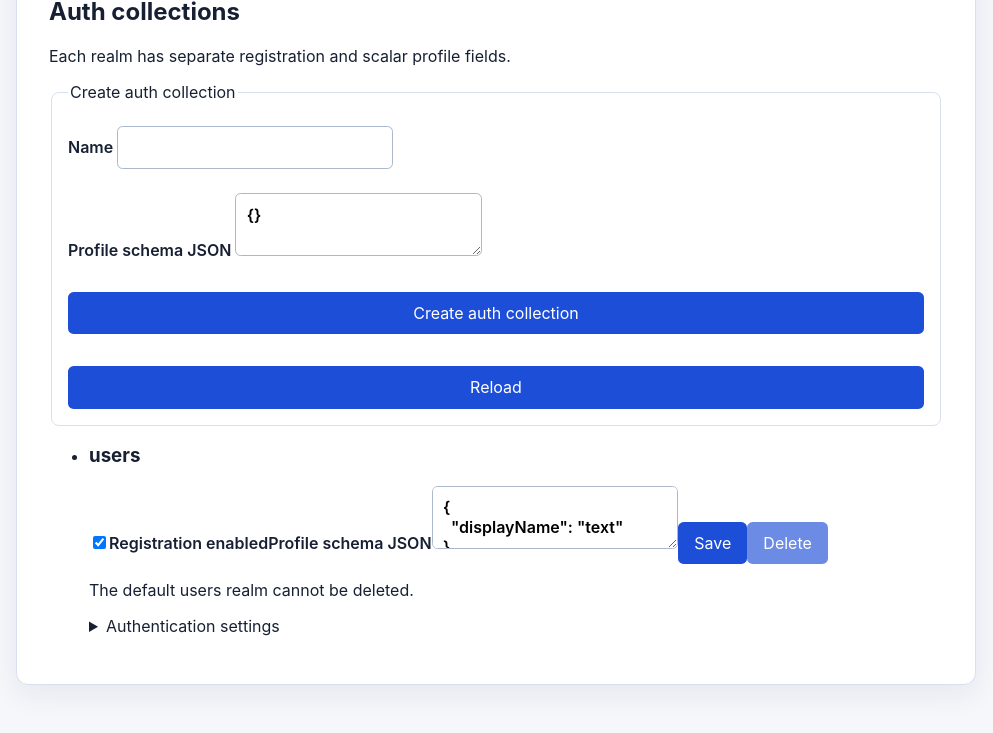
auth collections page › keeps a stored SMTP password redacted while saving settings and using the local test action
(page scrolled)
Expected: the heading "users" is shown, [89,444,140,467]
Click the heading "Authentication settings". click: coordinates (193, 626)
box: [106,616,280,636]
(page scrolled)
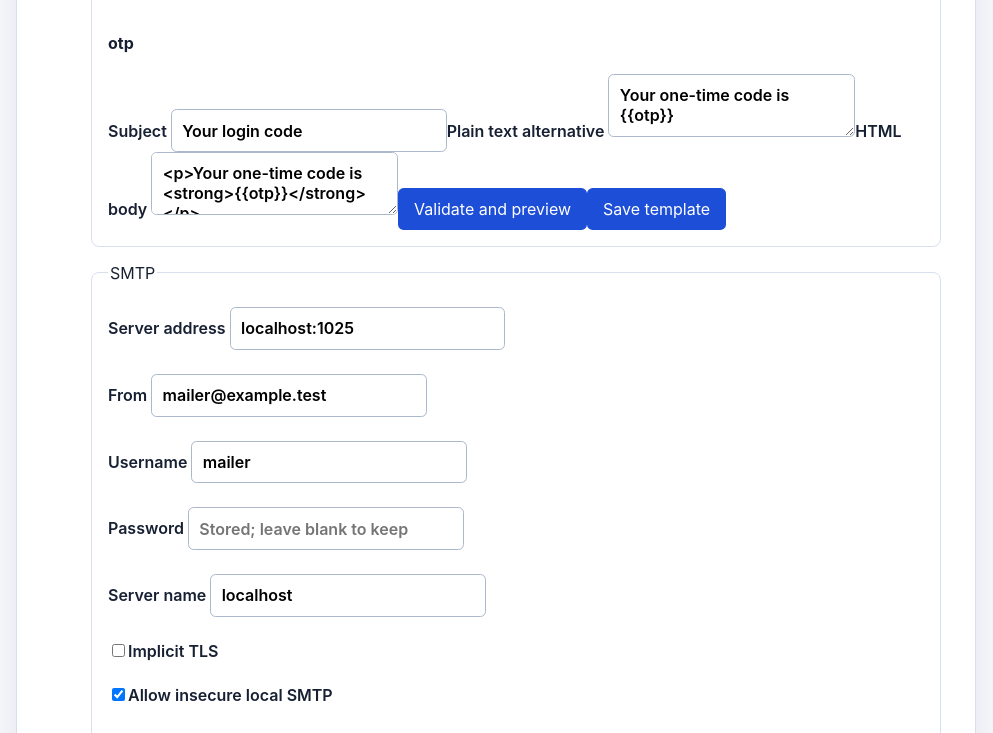
Expected: the field labelled "Server address" is shown
Expected: the password field labelled "Password" is empty, [188,507,464,550]
Type "localhost:2525" into the field labelled "Server address". click: coordinates (368, 328)
box: [230,307,505,350]
(page scrolled)
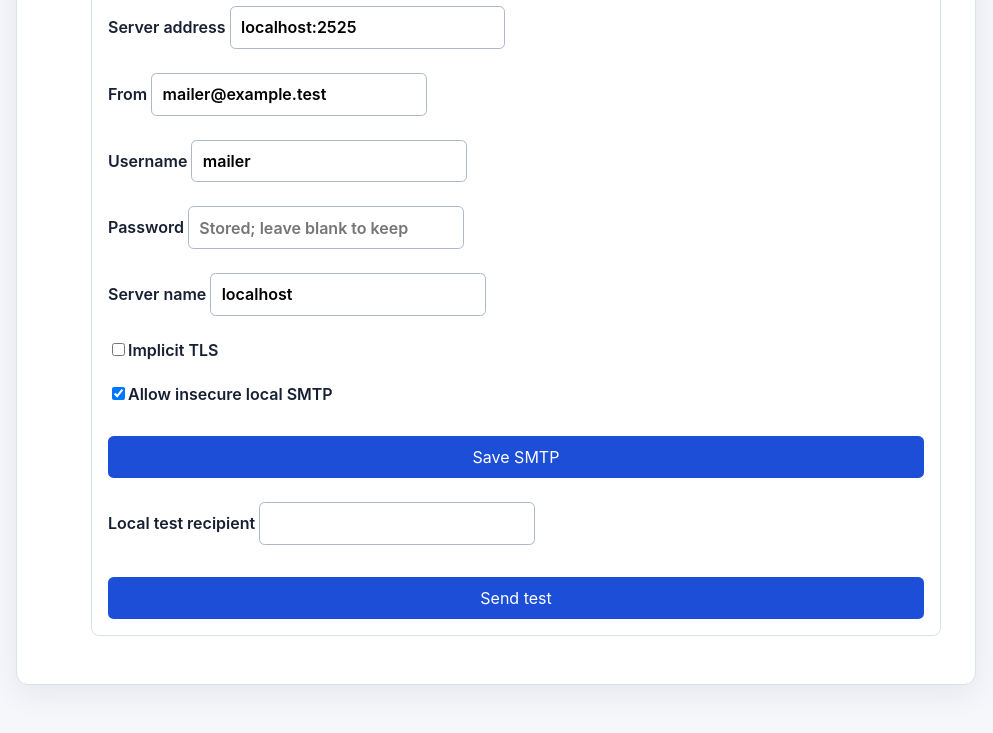
Click the button "Save SMTP". click: coordinates (516, 457)
box: [108,436,924,478]
(page scrolled)
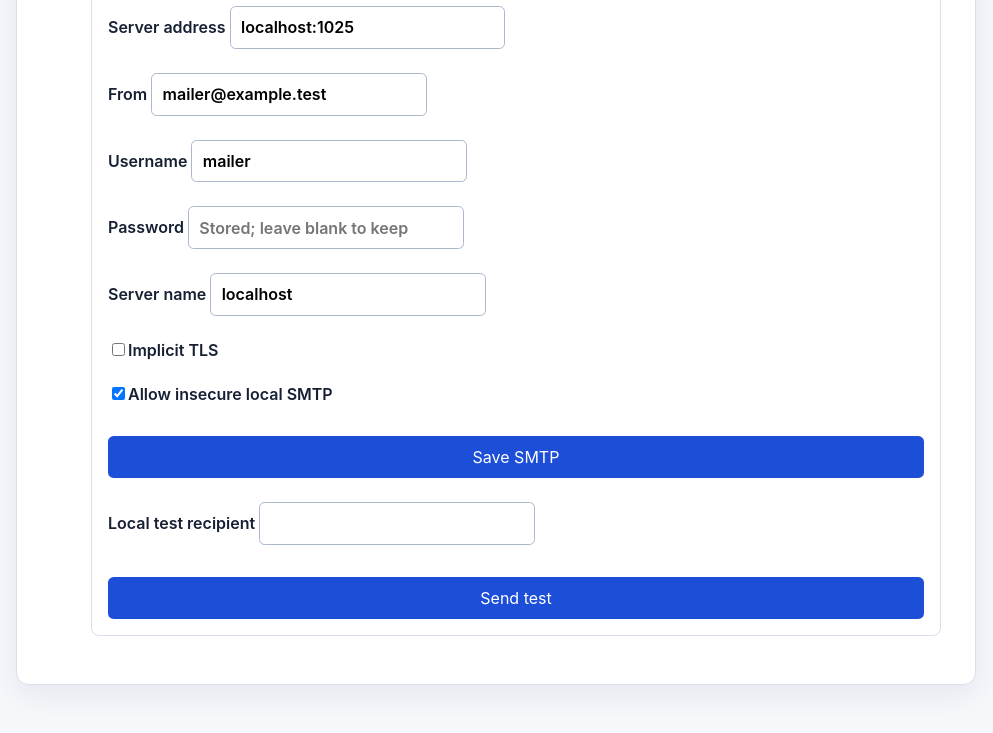
Type "sink@example.test" into the field labelled "Local test recipient". click: coordinates (397, 524)
box: [259,502,535,545]
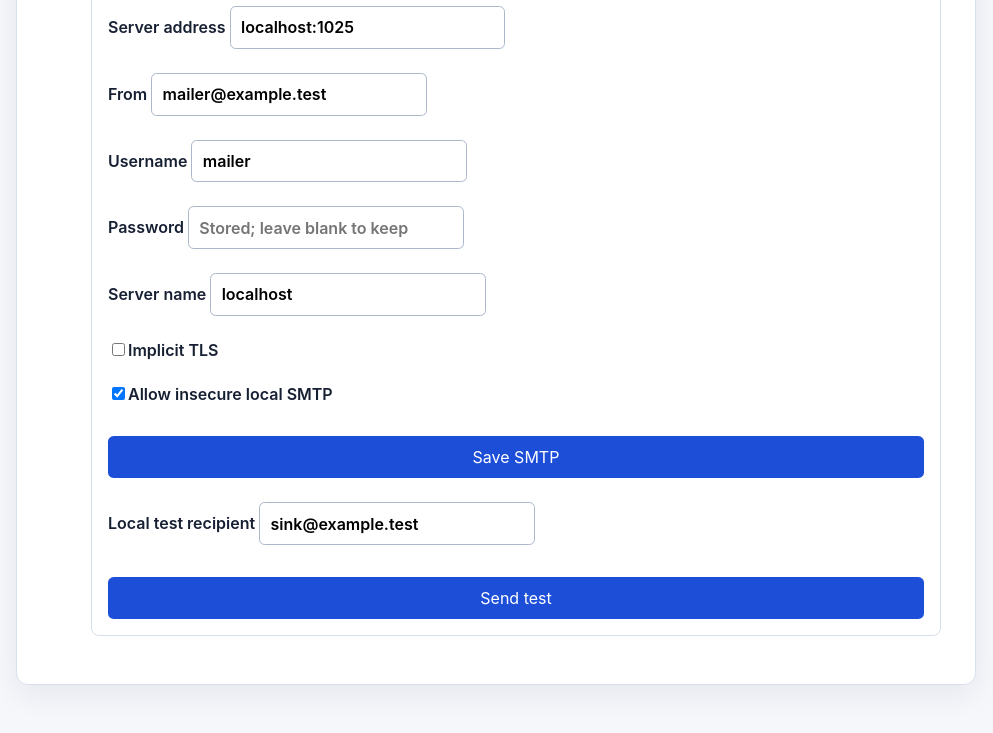
Click the button "Send test". click: coordinates (516, 598)
box: [108,577,924,619]
(page scrolled)
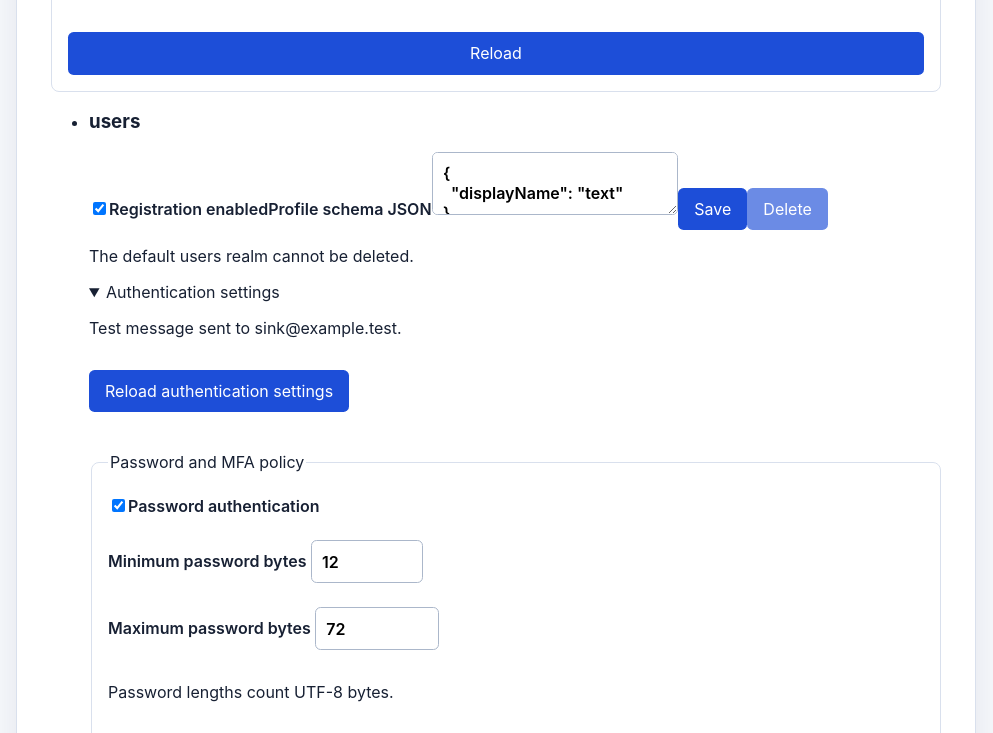
Expected: the text "Test message sent to sink@example.test." is shown, [89,318,402,338]
